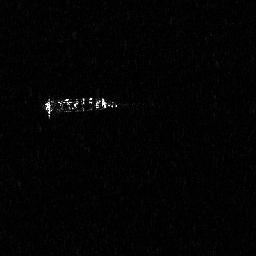ship: (41, 95, 122, 120)
